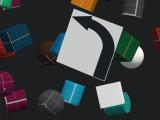Left: (56, 9, 124, 81)
